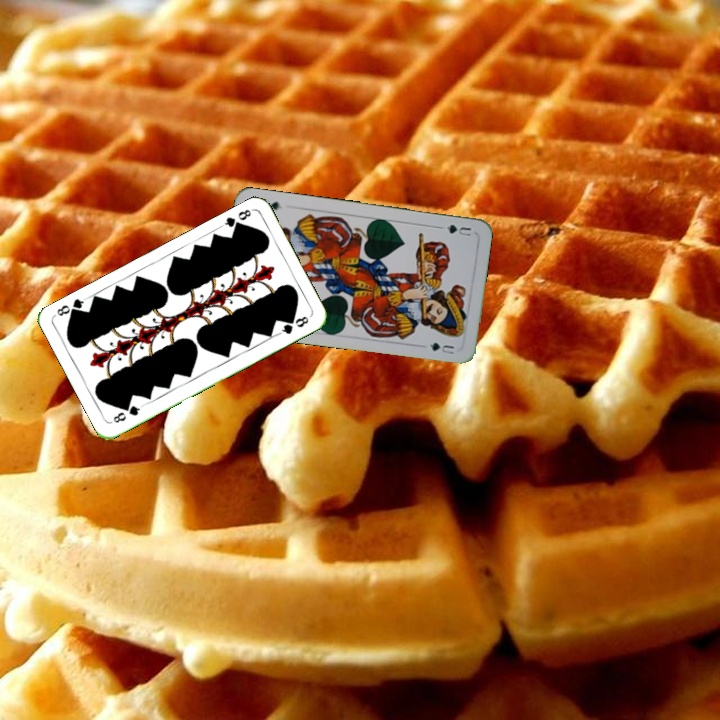G8: (217, 205, 255, 233), (109, 401, 145, 426)
GU: (436, 220, 473, 239)
